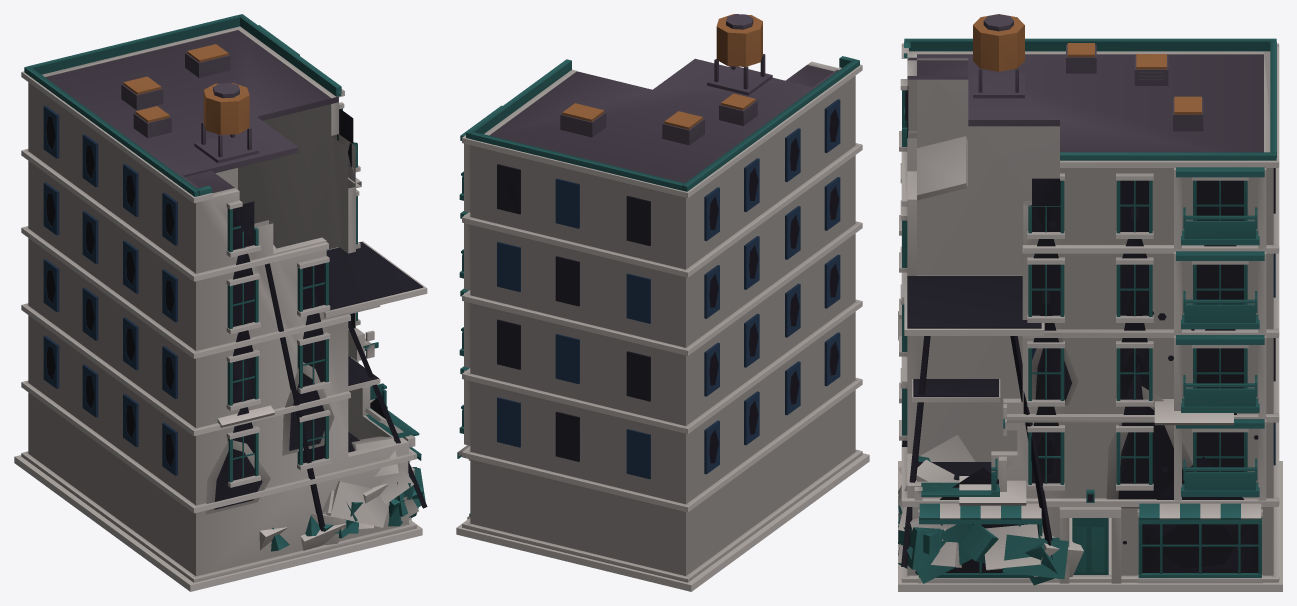
File: bld.apartment-block-b.w5.lod1.glb
3 renders of one model, left to right at view 1: azimuth 30°, elevation 25°; view 2: azimuth 150°, elevation 25°; view 3: azimuth 270°, elevation 25°, orthographic. The views are drawn at different scales.
Visible parts, largest first — view 1: body, roof; view 2: body, roof; view 3: body, roof, door_front.
Boxes of the visible parts, x1=… form: body: x1=14, y1=14, x2=427, y2=591; roof: x1=45, y1=30, x2=338, y2=193; body: x1=456, y1=56, x2=869, y2=591; roof: x1=489, y1=14, x2=838, y2=183; body: x1=898, y1=38, x2=1282, y2=591; roof: x1=908, y1=14, x2=1263, y2=152; door_front: x1=1072, y1=518, x2=1108, y2=574.
Size of the model in its own units: 10 by 17.76 by 12.6.
